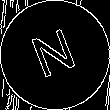N_S: (27, 24, 83, 86)
